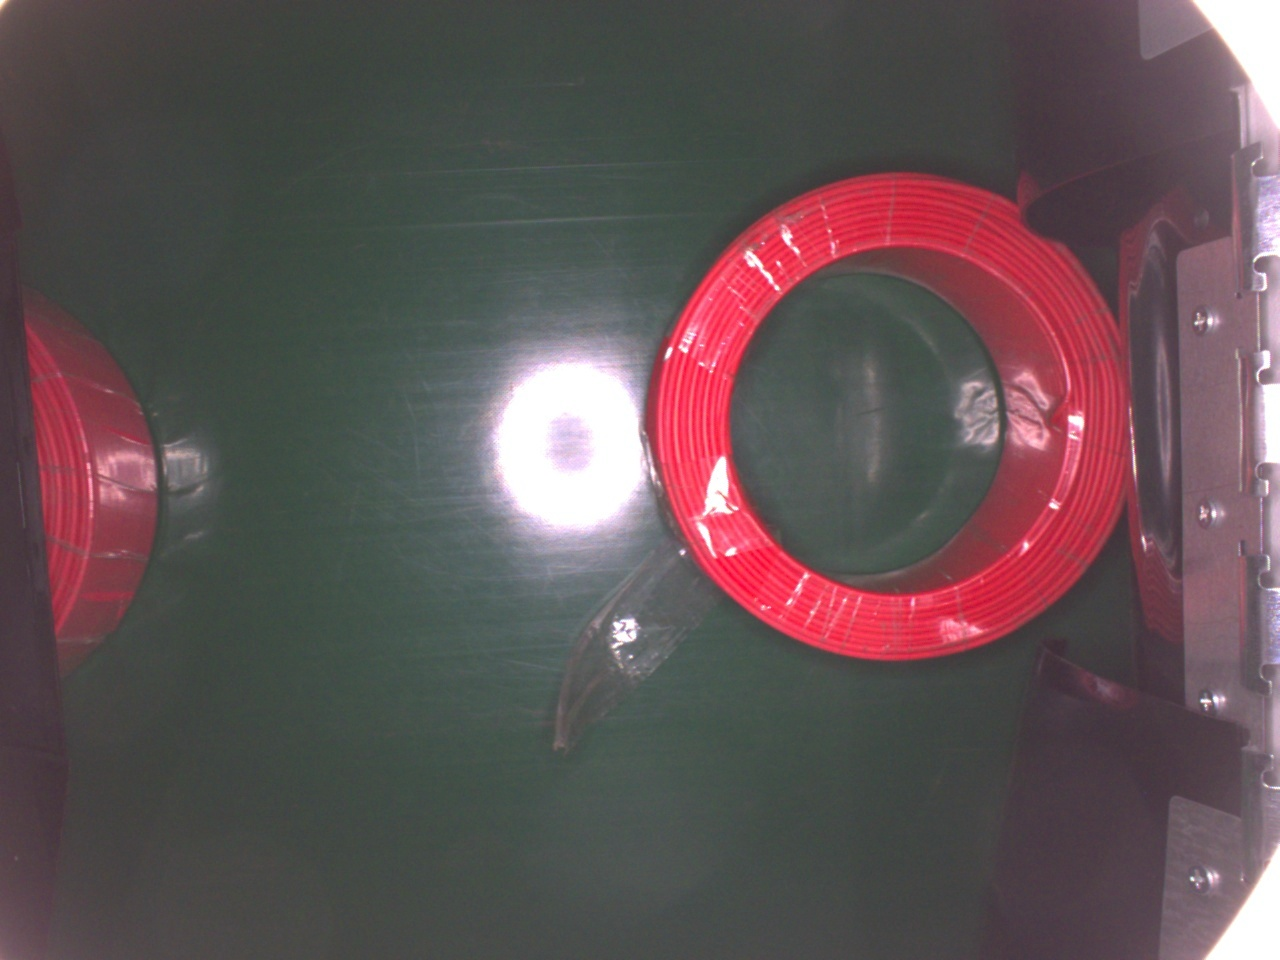red: (643, 169, 1127, 661), (24, 285, 160, 680)
